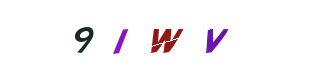1: (115, 0, 195, 80)
9: (44, 0, 124, 80)
V: (135, 0, 215, 80)
W: (124, 0, 204, 80)
